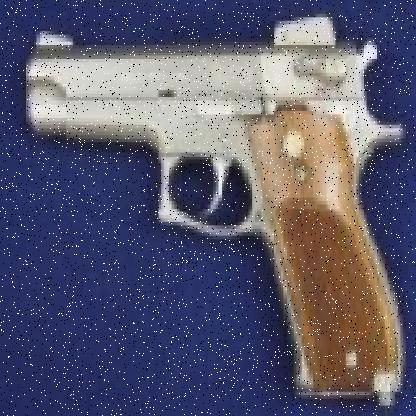pistol: (26, 10, 411, 398)
